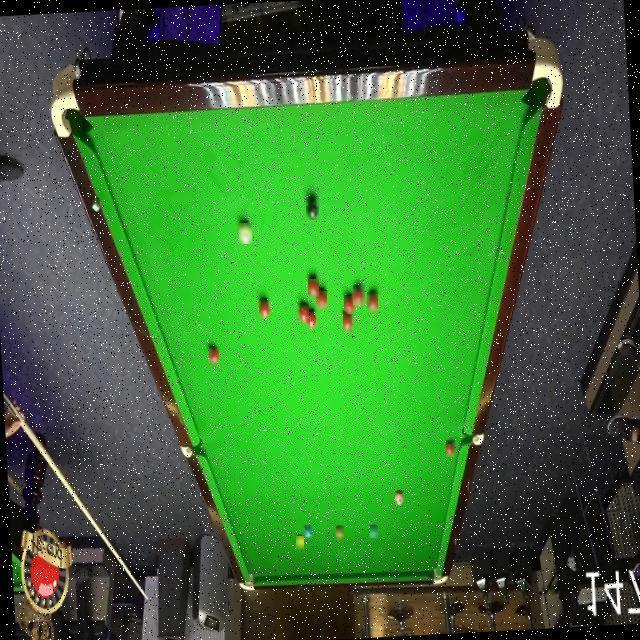Ball: (306, 197, 319, 220), (239, 223, 252, 244), (353, 285, 365, 305), (343, 311, 354, 332), (297, 303, 309, 322), (259, 300, 271, 318), (367, 292, 378, 311), (316, 291, 327, 309), (308, 279, 319, 297), (344, 296, 355, 314), (307, 311, 317, 328), (209, 347, 219, 363), (446, 440, 455, 457), (395, 491, 404, 505), (336, 526, 344, 540), (296, 536, 304, 549), (370, 525, 378, 538), (305, 525, 312, 539)
